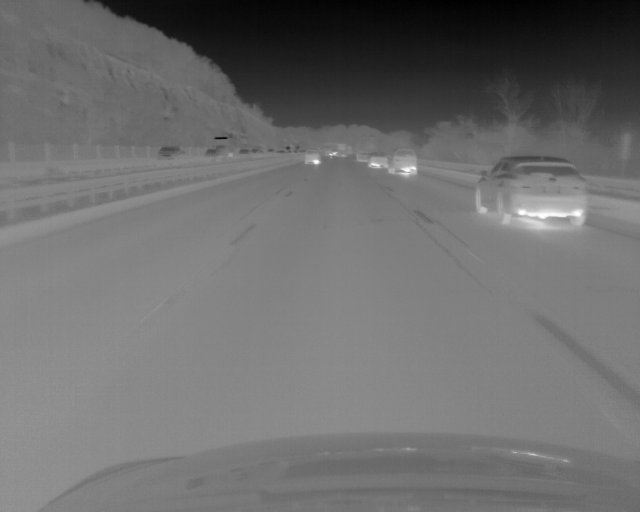car: (472, 155, 587, 229), (389, 149, 416, 174), (157, 146, 188, 158), (368, 152, 388, 167), (304, 149, 321, 166), (206, 148, 217, 156), (239, 149, 249, 155)
